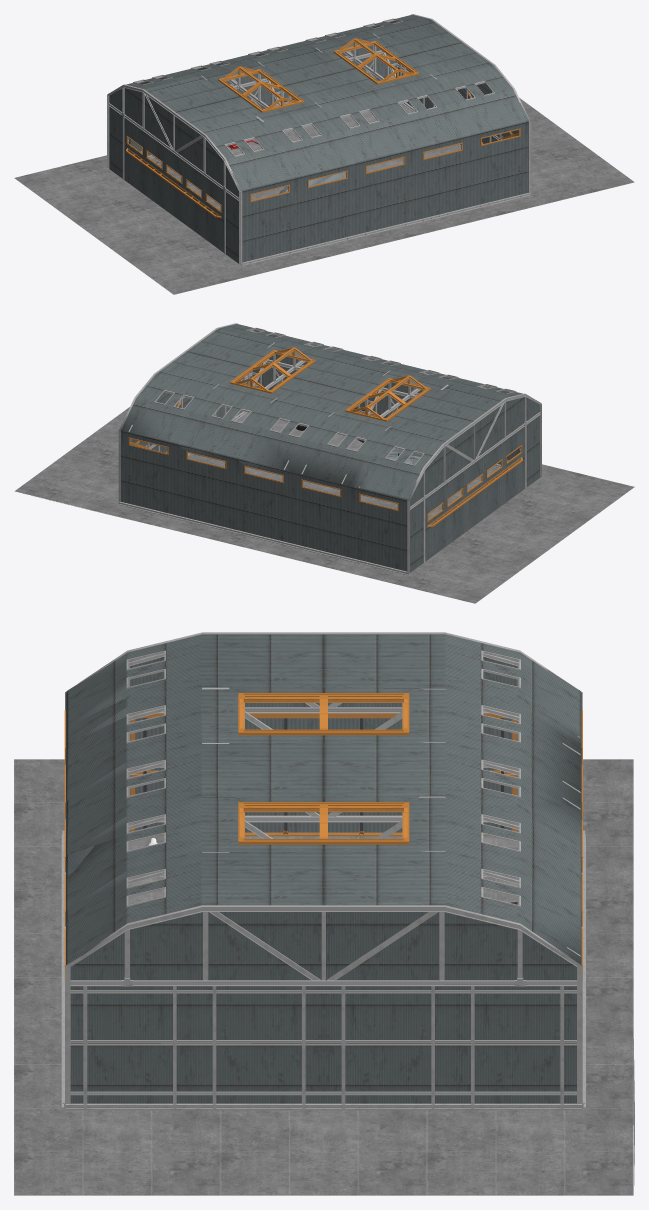
The picture shows the model from 3 angles, top to bottom: view 1: azimuth 30°, elevation 25°; view 2: azimuth 150°, elevation 25°; view 3: azimuth 270°, elevation 25°; orthographic projection. The views are drawn at different scales.
Parts seen in each view (by area): view 1: Hangar_part_01_Sheet_metal_0, Concete Floor Tiles_Concrete Floor_0, Hangar_part_01_Trusses_0; view 2: Hangar_part_01_Sheet_metal_0, Concete Floor Tiles_Concrete Floor_0, Hangar_part_01_Trusses_0; view 3: Hangar_part_01_Sheet_metal_0, Concete Floor Tiles_Concrete Floor_0, Hangar_part_01_Trusses_0.
Part boxes in pixels (bbox=[...]): Hangar_part_01_Sheet_metal_0: bbox=[109, 15, 529, 263]; Concete Floor Tiles_Concrete Floor_0: bbox=[14, 98, 634, 294]; Hangar_part_01_Trusses_0: bbox=[107, 14, 531, 265]; Hangar_part_01_Sheet_metal_0: bbox=[120, 324, 539, 572]; Concete Floor Tiles_Concrete Floor_0: bbox=[14, 407, 634, 603]; Hangar_part_01_Trusses_0: bbox=[118, 323, 541, 574]; Hangar_part_01_Sheet_metal_0: bbox=[66, 634, 581, 1103]; Concete Floor Tiles_Concrete Floor_0: bbox=[14, 759, 634, 1195]; Hangar_part_01_Trusses_0: bbox=[61, 632, 585, 1110].
Size of the model in its own units: 40 by 9.44 by 24.06.
27 materials, 22 textured.
